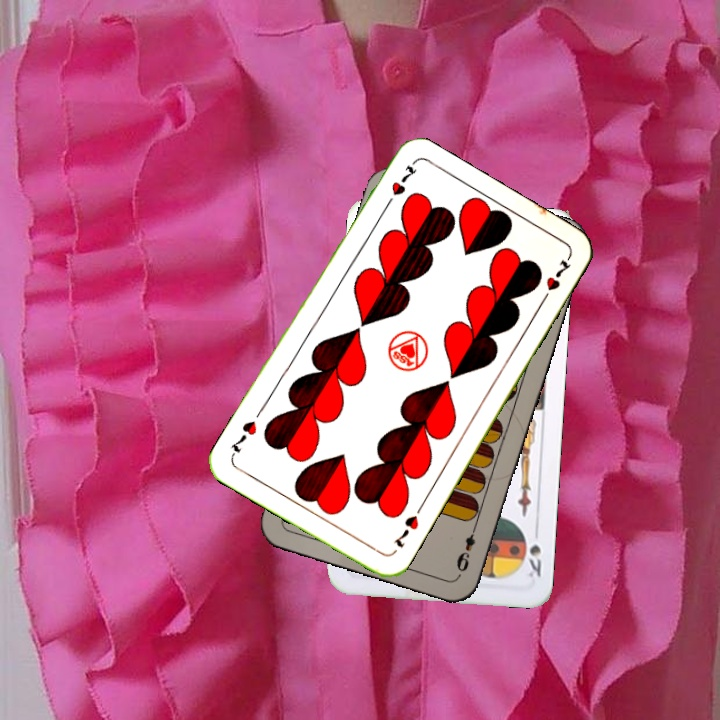E9: (452, 520, 480, 575)
H7: (380, 159, 418, 212), (389, 511, 422, 551)
SK: (524, 523, 544, 580)
